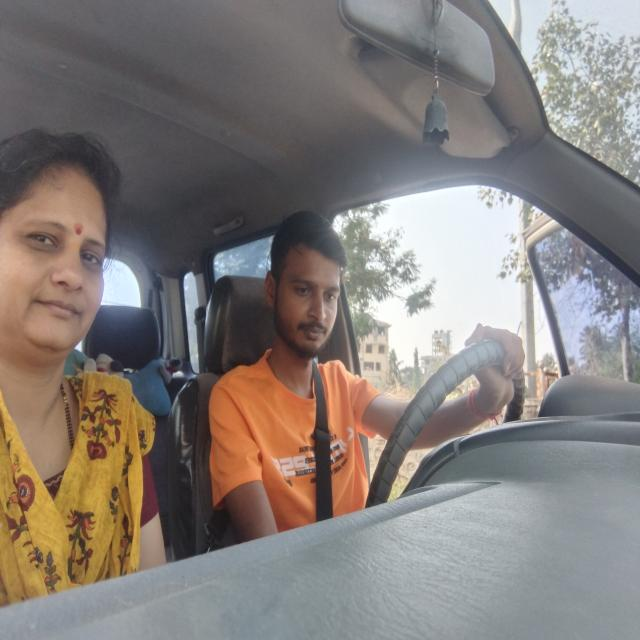person: (2, 127, 116, 369), (258, 199, 349, 365)
